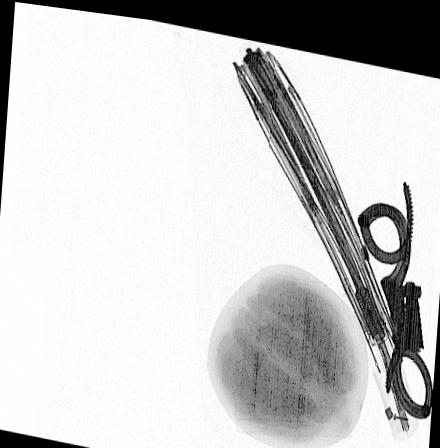HandCuffs: (358, 162, 434, 406)
